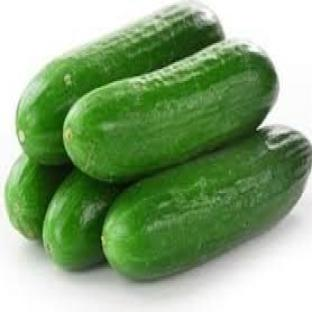Cucumber: (16, 2, 223, 163), (103, 126, 311, 279), (63, 40, 278, 182), (43, 169, 117, 268), (5, 154, 70, 239)
